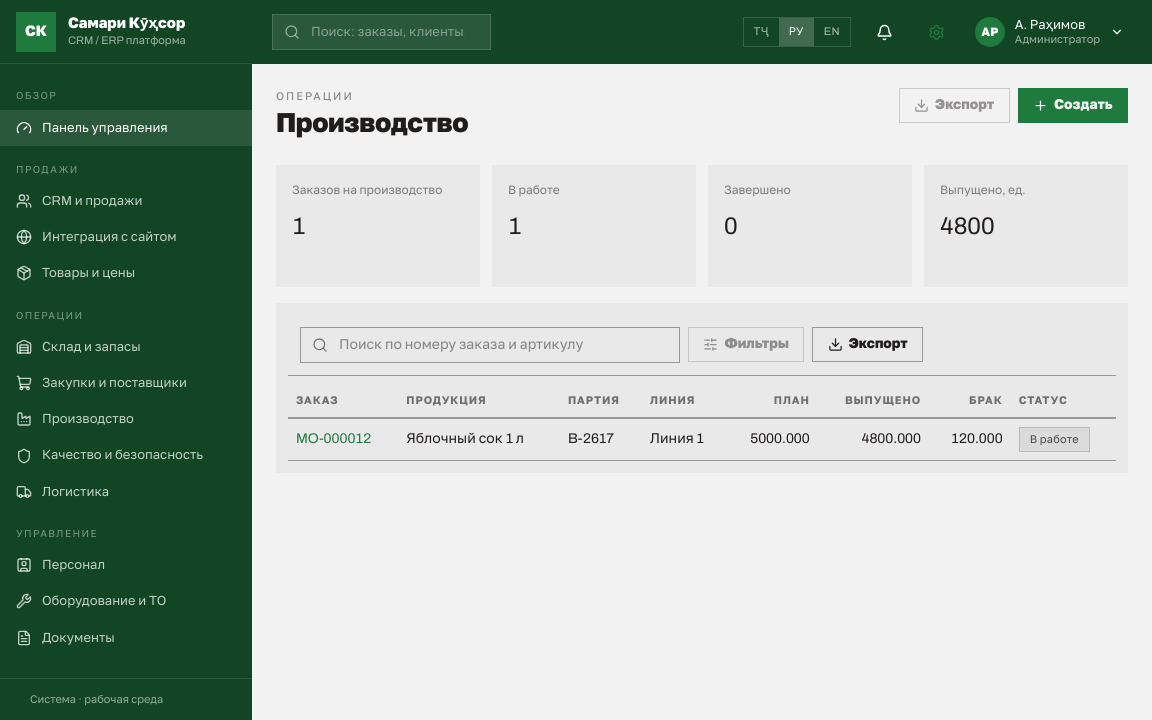
Test case: Производство › shows the no-match state when a search excludes everything
Expected: the text "MO-000012" is shown, [296, 431, 371, 446]
Type "ничего" into the search field labelled "Поиск по номеру заказа и артикулу". click: (490, 345)
box: [300, 327, 680, 363]
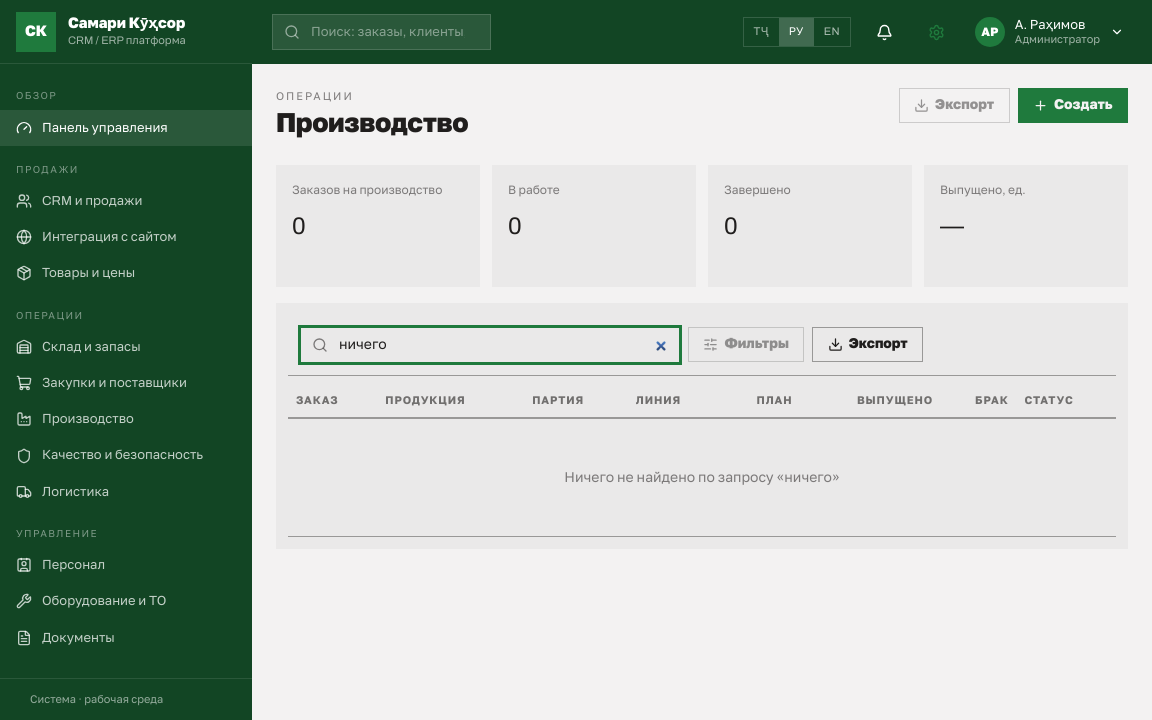
Now the cell with test id "list-no-match" is shown, box [288, 418, 1116, 537]
